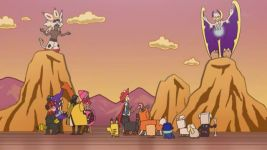pikachu: (107, 117, 123, 141)
